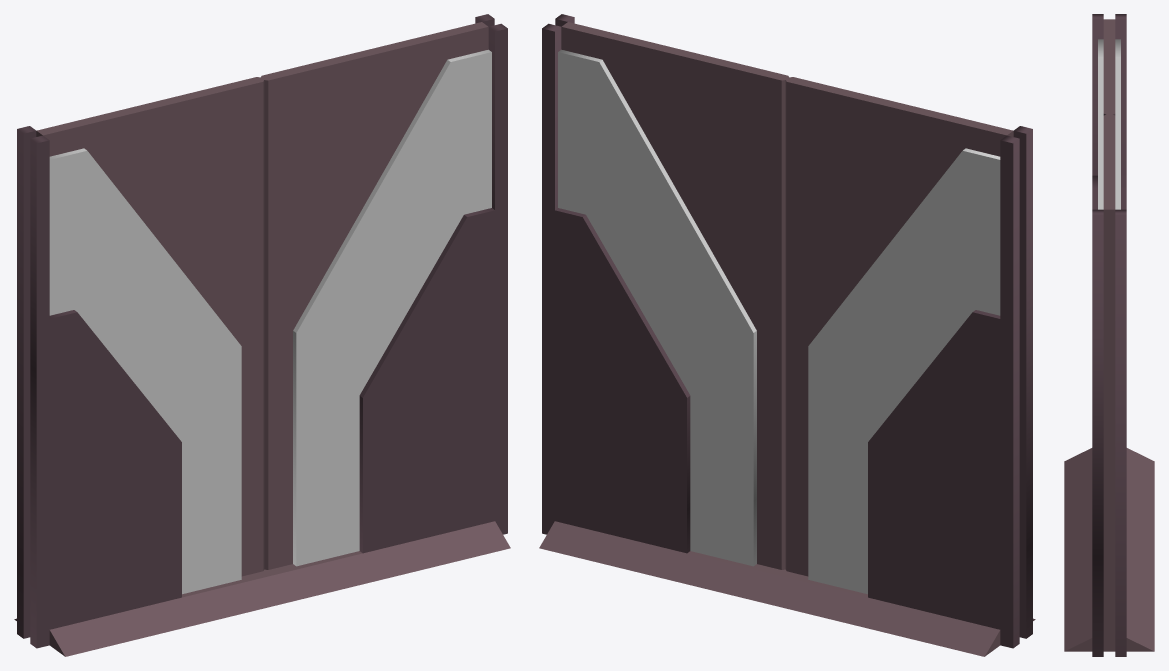
Rendered from red_door_med.fbx.
3 renders of one model, left to right at view 1: azimuth 30°, elevation 25°; view 2: azimuth 150°, elevation 25°; view 3: azimuth 270°, elevation 25°, orthographic. The views are drawn at different scales.
Visible parts, largest first — view 1: RedDoorMed; view 2: RedDoorMed; view 3: RedDoorMed.
Part boxes in pixels (<box>): RedDoorMed: <box>14,14,510,656</box>; RedDoorMed: <box>539,14,1035,656</box>; RedDoorMed: <box>1064,14,1154,656</box>.
Size of the model in its own units: 293 by 300 by 55.46.
